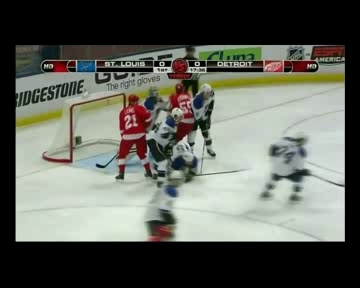normal: (260, 127, 333, 212)
